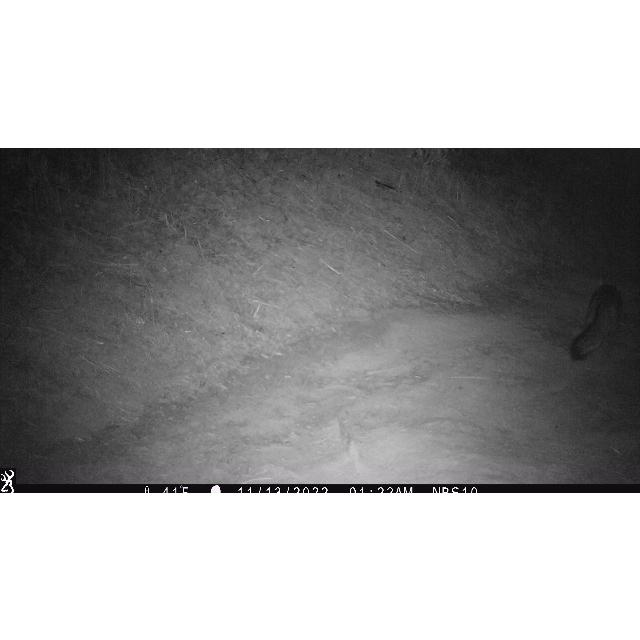animals: (568, 281, 624, 364)
